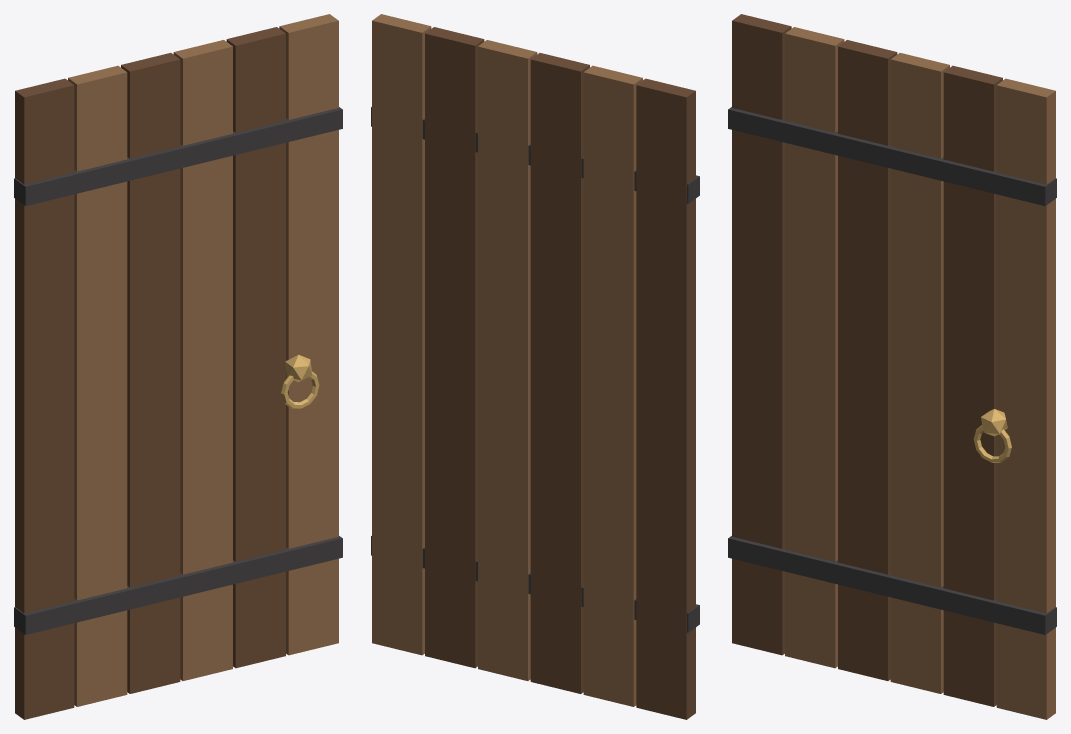
The model's file is shop_door.glb.
3 views of the same model, side by side, from view 1: azimuth 30°, elevation 25°; view 2: azimuth 150°, elevation 25°; view 3: azimuth 330°, elevation 25° (orthographic).
Visible parts, largest first — view 1: Plank0, Plank1, Plank2, Plank3, Plank4, Plank5, Strap0, Strap1, Knocker, Ring; view 2: Plank0, Plank1, Plank2, Plank5, Plank4, Plank3, Strap0, Strap1; view 3: Plank5, Plank3, Plank0, Plank1, Plank2, Plank4, Strap0, Strap1, Knocker, Ring.
Boxes of the visible parts, <box> form: Plank0: <box>15,78,74,719</box>; Plank1: <box>68,65,127,706</box>; Plank2: <box>121,53,180,693</box>; Plank3: <box>173,40,232,680</box>; Plank4: <box>226,27,285,668</box>; Plank5: <box>279,14,338,655</box>; Strap0: <box>14,536,342,634</box>; Strap1: <box>14,107,342,206</box>; Knocker: <box>281,371,319,408</box>; Ring: <box>285,354,312,382</box>; Plank0: <box>636,78,695,719</box>; Plank1: <box>583,65,642,706</box>; Plank2: <box>530,53,589,693</box>; Plank5: <box>372,14,431,655</box>; Plank4: <box>425,27,484,668</box>; Plank3: <box>478,40,537,680</box>; Strap0: <box>371,536,699,632</box>; Strap1: <box>371,107,699,203</box>; Plank5: <box>996,78,1055,719</box>; Plank3: <box>890,53,949,693</box>; Plank0: <box>732,14,791,655</box>; Plank1: <box>785,27,844,668</box>; Plank2: <box>838,40,897,680</box>; Plank4: <box>943,65,1002,706</box>; Strap0: <box>728,536,1056,634</box>; Strap1: <box>728,107,1056,206</box>; Knocker: <box>973,425,1011,462</box>; Ring: <box>981,409,1007,436</box>.
Bounding box in the file's own units: 1.2 × 2.25 × 0.1425.
